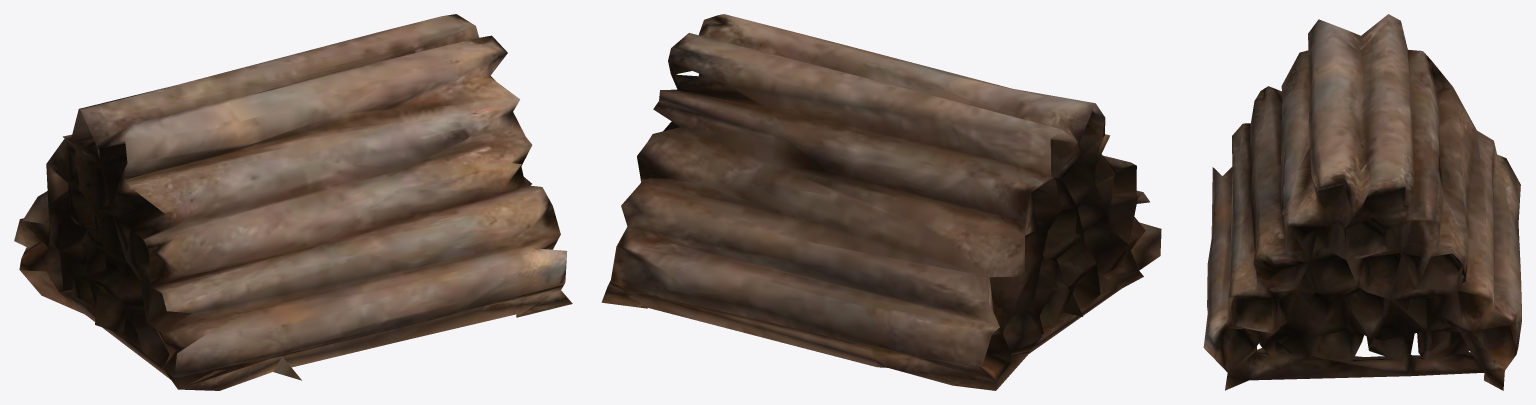
Rendered from e_pipes.glb.
3 renders of one model, left to right at view 1: azimuth 30°, elevation 25°; view 2: azimuth 150°, elevation 25°; view 3: azimuth 270°, elevation 25°, orthographic. The views are drawn at different scales.
Visible parts, largest first — view 1: tripo_node_636562ef-35c6-4838-80ef-691c9d095f20; view 2: tripo_node_636562ef-35c6-4838-80ef-691c9d095f20; view 3: tripo_node_636562ef-35c6-4838-80ef-691c9d095f20.
Boxes of the visible parts, x1=… form: tripo_node_636562ef-35c6-4838-80ef-691c9d095f20: x1=14, y1=14, x2=572, y2=390; tripo_node_636562ef-35c6-4838-80ef-691c9d095f20: x1=601, y1=14, x2=1161, y2=390; tripo_node_636562ef-35c6-4838-80ef-691c9d095f20: x1=1203, y1=14, x2=1521, y2=390.
Size of the model in its own units: 1 by 0.5472 by 0.7935.
Materials: 1 (1 with a texture image).
